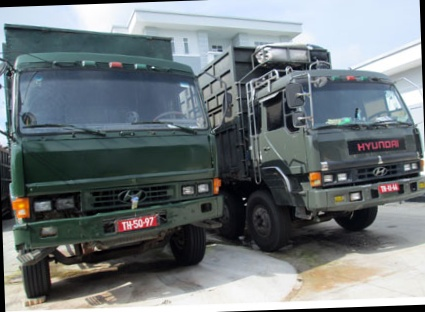plate: (114, 210, 157, 234), (378, 181, 401, 194)
